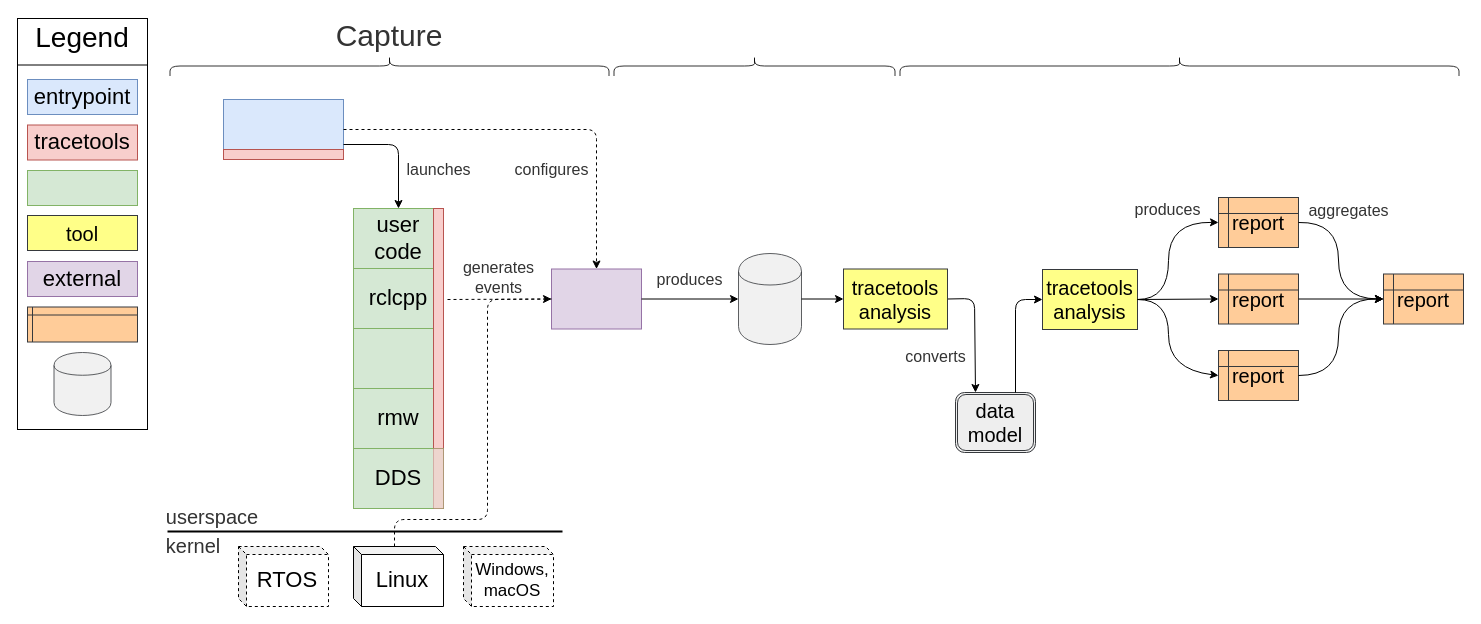
This 1481x624 diagram has some shape labels left out. The shapes that lost their labels are listed below. From the top down, each one's box as (x1, y1, x2, y2) in pixels, then its label:
(613, 55, 895, 76): Extract
(899, 55, 1459, 76): Analyze
(222, 98, 344, 160): launch file
(26, 170, 138, 206): node
(550, 268, 642, 329): lttng
(738, 252, 802, 344): trace data
(26, 306, 138, 342): output
(352, 328, 444, 388): rcl
(53, 352, 111, 416): file
